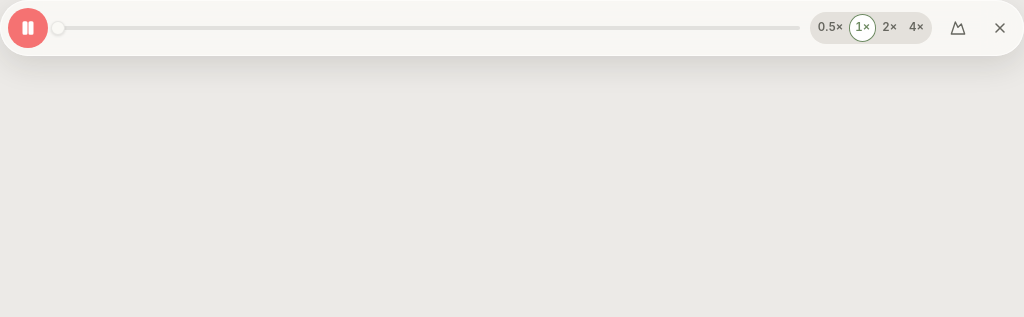
Test case: PreviewControl › collapses to a controls strip when the map asks, with a Profile toggle
This screenshot has width=1024, height=317.
expect the button named "Pause preview" is shown: met, box [8,8,48,48]
Click the button named "Profile" at (958, 28), box [942,12,974,44]
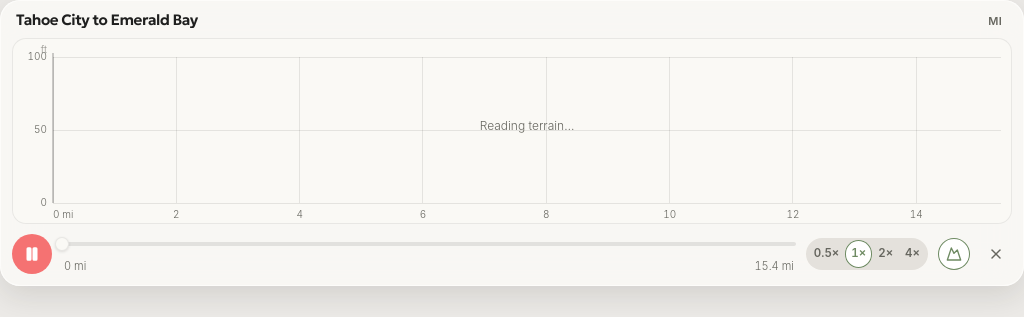
expect the picture named "Elevation profile" is shown: met, box [13,42,1011,222]
